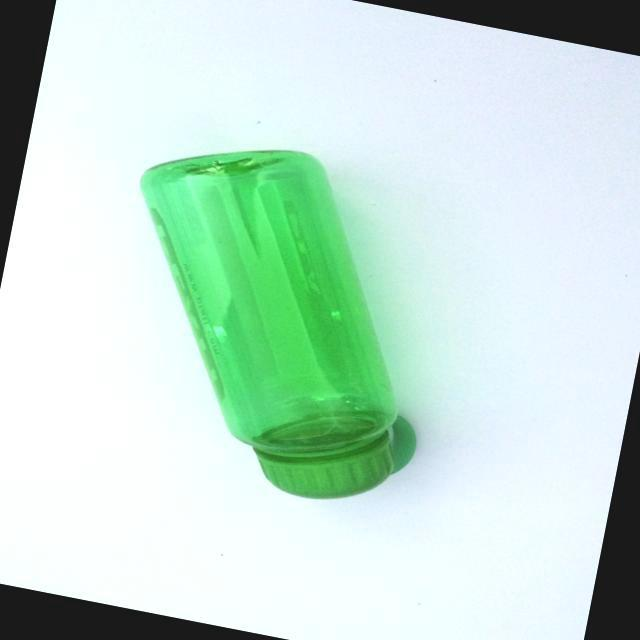plastic: (49, 116, 512, 562)
